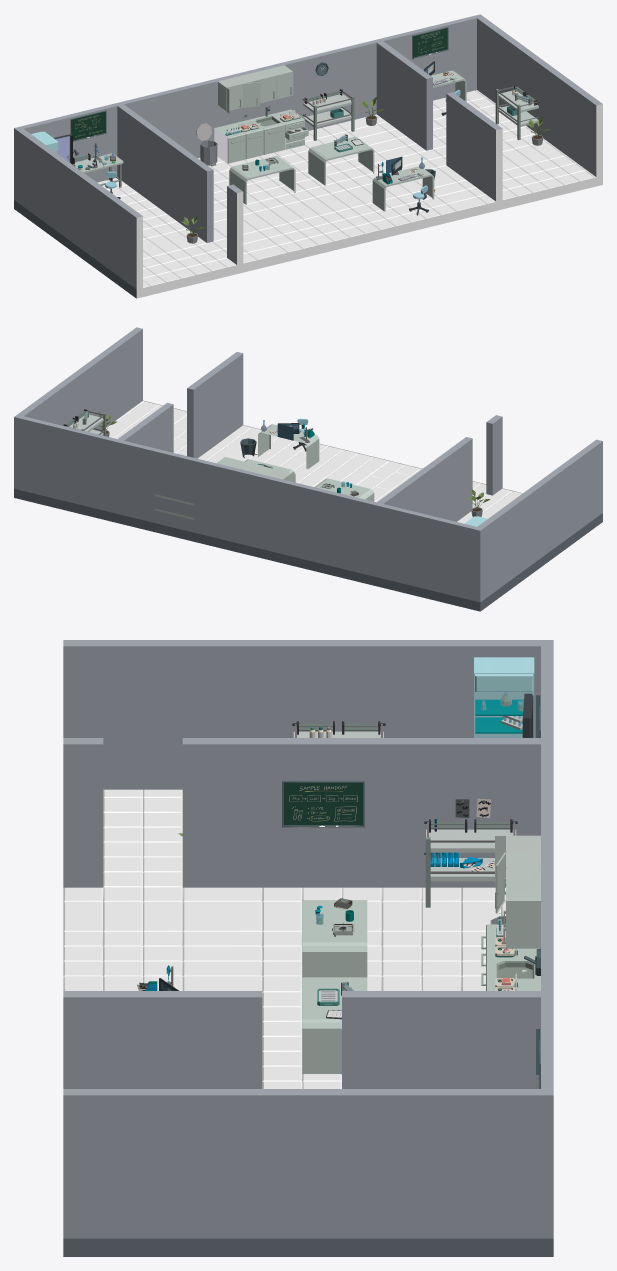
Rendered from Lab_room_3room.glb.
3 views of the same model, one above another, from view 1: azimuth 30°, elevation 25°; view 2: azimuth 150°, elevation 25°; view 3: azimuth 270°, elevation 25° (orthographic). The views are drawn at different scales.
Visible parts, largest first — view 1: floor_and_walls, tile, tweezers, lab_table_right, lab_table_left, table1, bottom_shelf2, board_right_room, board_left_room, shelfC_shelf1, shelfR_shelf1, bottom_shelf4 (+6 smaller); view 2: floor_and_walls, tile, table1, tweezers, lab_table_left; view 3: floor_and_walls, tile, tweezers, lab_table_left, frame .002, lab_table_right, shelf1, main, top_plastic, bottom_shelf2.
Boxes of the visible parts, <box> form: floor_and_walls: <box>14,14,602,298</box>; tile: <box>97,90,595,287</box>; tweezers: <box>218,65,293,113</box>; lab_table_right: <box>308,136,374,185</box>; lab_table_left: <box>229,156,295,204</box>; table1: <box>372,166,434,211</box>; bottom_shelf2: <box>250,114,285,154</box>; board_right_room: <box>412,27,448,58</box>; board_left_room: <box>70,110,106,141</box>; shelfC_shelf1: <box>303,94,351,126</box>; shelfR_shelf1: <box>498,90,538,126</box>; bottom_shelf4: <box>214,124,245,163</box>; floor_and_walls: <box>14,327,602,611</box>; tile: <box>106,401,522,523</box>; table1: <box>258,424,319,469</box>; tweezers: <box>216,457,294,481</box>; lab_table_left: <box>315,478,374,501</box>; floor_and_walls: <box>63,640,553,1256</box>; tile: <box>63,789,505,1088</box>; tweezers: <box>495,835,540,948</box>; lab_table_left: <box>302,900,367,976</box>; frame .002: <box>282,780,364,827</box>; lab_table_right: <box>302,977,367,1074</box>; shelf1: <box>426,829,516,881</box>; main: <box>474,657,534,737</box>; top_plastic: <box>475,674,533,691</box>; bottom_shelf2: <box>486,959,540,980</box>.
Bounding box in the file's own units: 6.51 × 1.08 × 2.96.
Materials: 38 (10 with a texture image).
